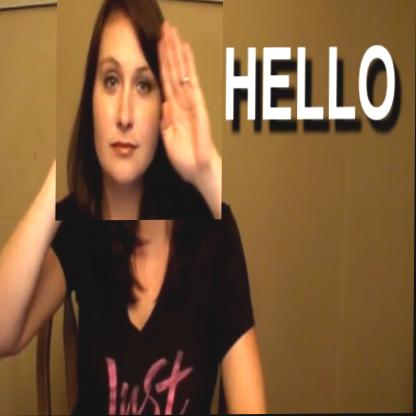Hello: (56, 0, 223, 221)
